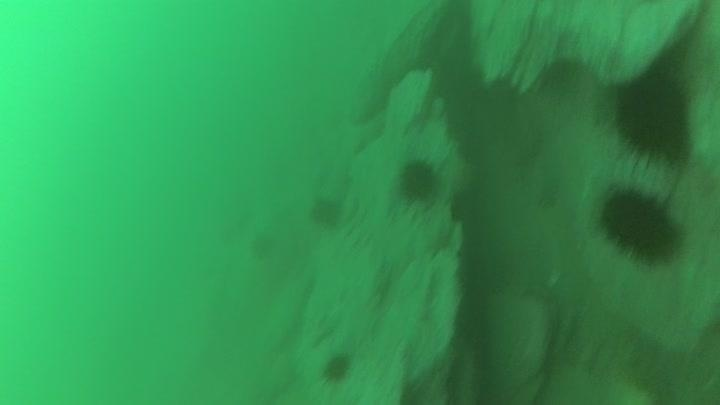echinus: (609, 69, 696, 165), (595, 183, 686, 264), (395, 156, 442, 204), (307, 194, 346, 230), (242, 228, 281, 264), (319, 350, 355, 386)
